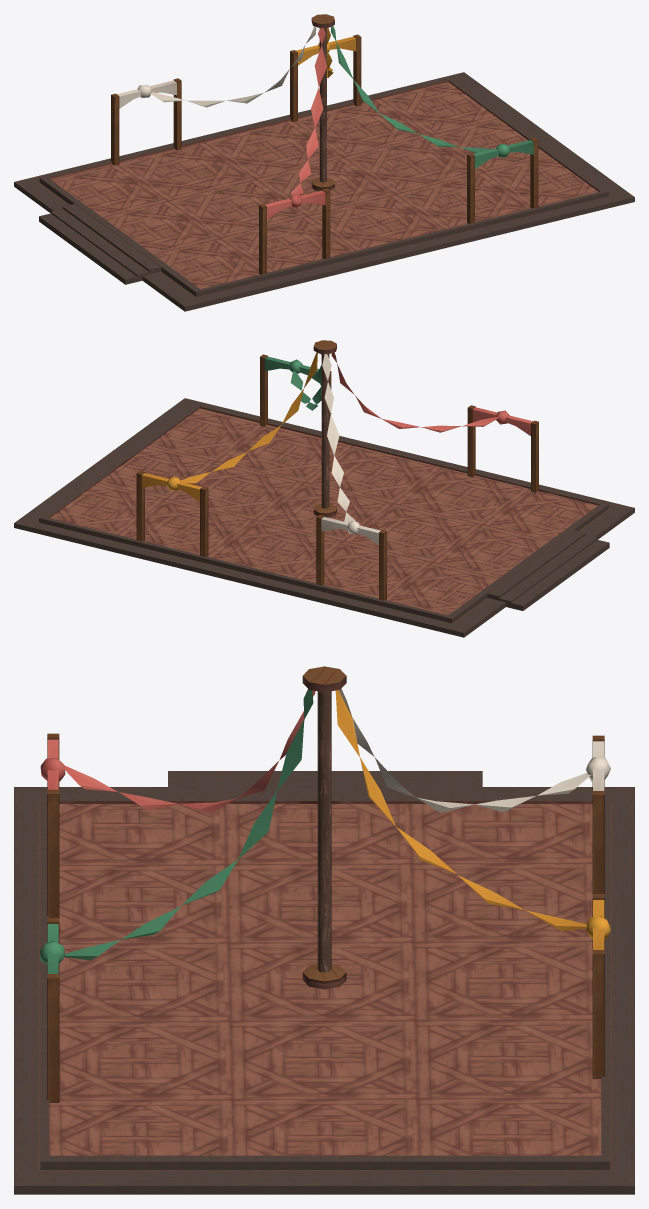
The model's file is center-platform.glb.
3 views of the same model, one above another, from view 1: azimuth 30°, elevation 25°; view 2: azimuth 150°, elevation 25°; view 3: azimuth 270°, elevation 25° (orthographic). The views are drawn at different scales.
Parts seen in each view (by area): view 1: CenterPlatform; view 2: CenterPlatform; view 3: CenterPlatform.
Boxes of the visible parts, x1,y1,x2,y2 form: CenterPlatform: (14,14,634,311); CenterPlatform: (14,340,634,637); CenterPlatform: (14,666,634,1194).
Size of what is drawn, in the model's own units: 19.43 by 6.97 by 12.31.
Materials: 4 (4 with a texture image).
